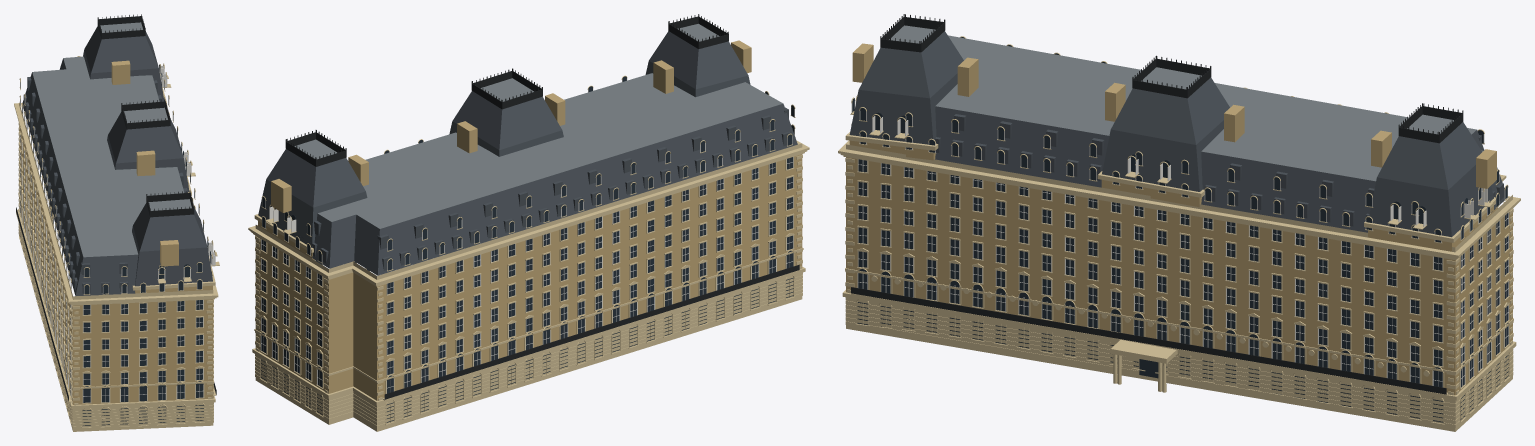
Rendered from grosvenor_hotel_victoria.glb.
3 views of the same model, side by side, from view 1: azimuth 30°, elevation 25°; view 2: azimuth 150°, elevation 25°; view 3: azimuth 270°, elevation 25° (orthographic). The views are drawn at different scales.
Size of the model in its own units: 59.65 by 42.52 by 89.59.
